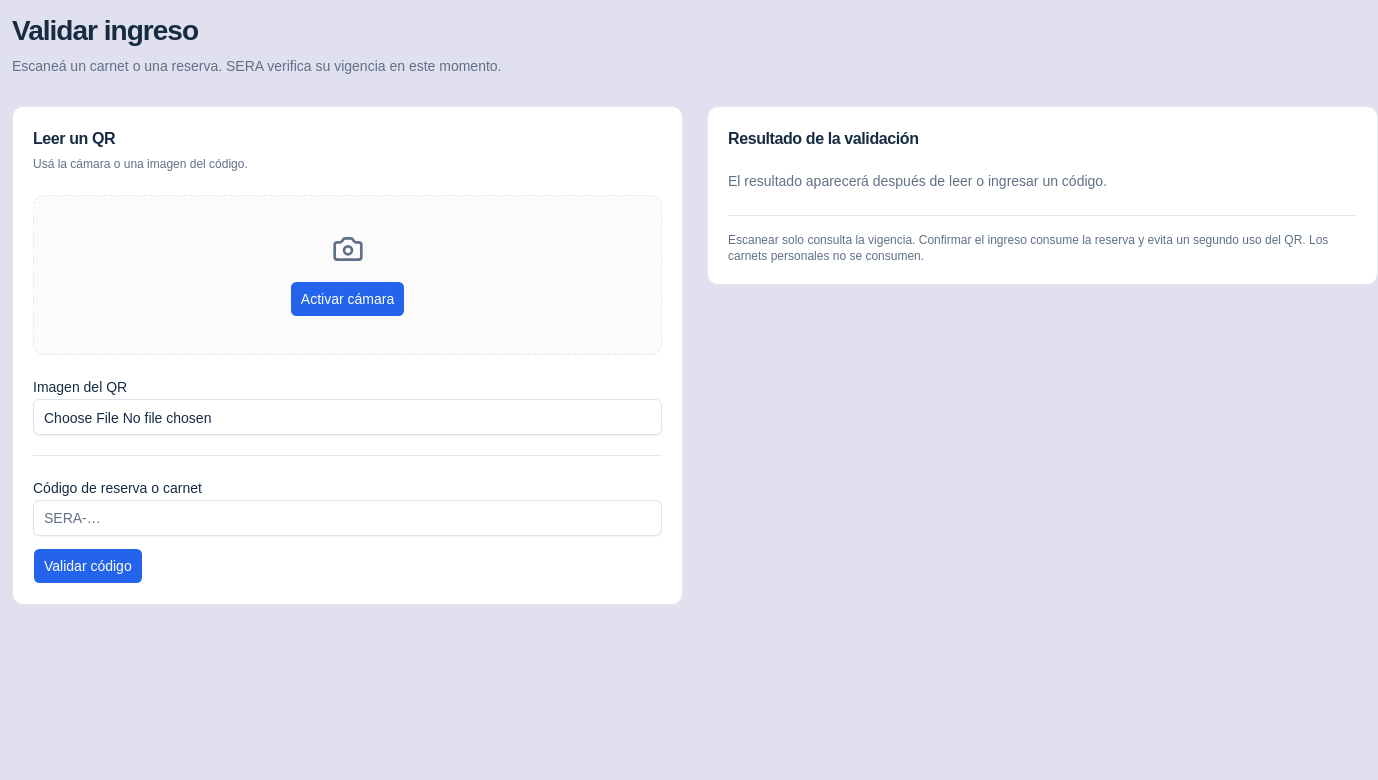
Test: Validación de acceso › usa la respuesta del servidor y borra el resultado al cambiar el código
Type "SERA-cancelada" into the field labelled "Código de reserva o carnet" at (348, 518), box 33,500 -> 662,536
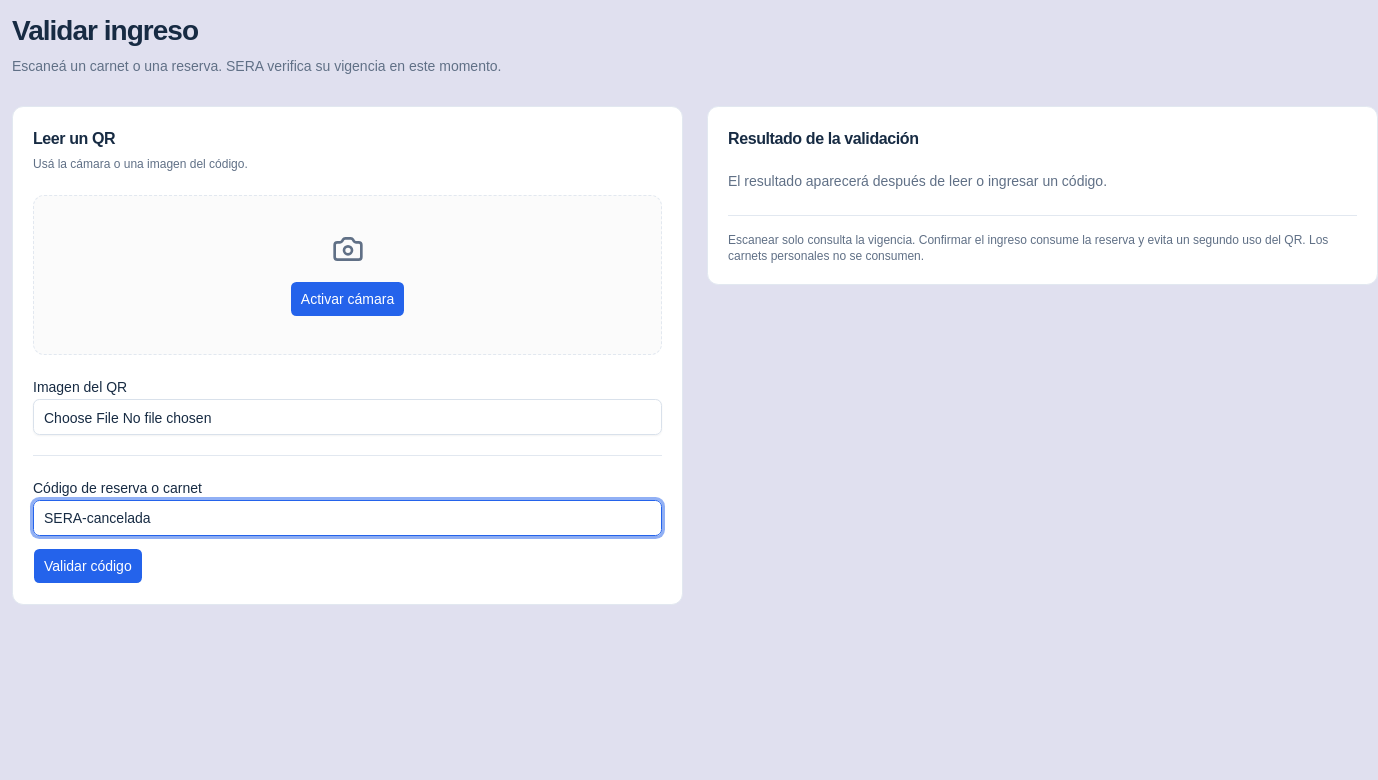
Click the button "Validar código" at (88, 566), box 33,548 -> 143,584
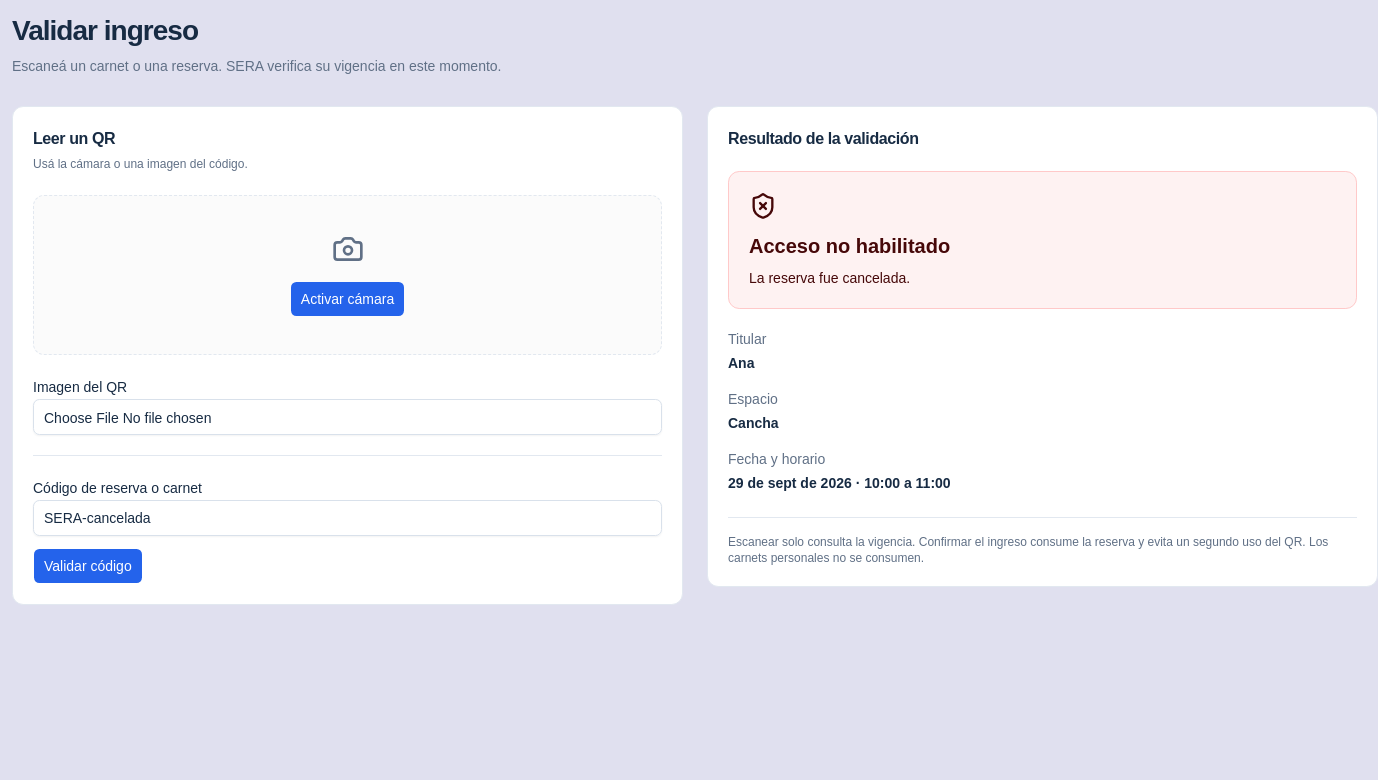
Now the heading "Acceso no habilitado" is shown, box 749,235 -> 950,257
Type "x" into the field labelled "Código de reserva o carnet" at (348, 518), box 33,500 -> 662,536
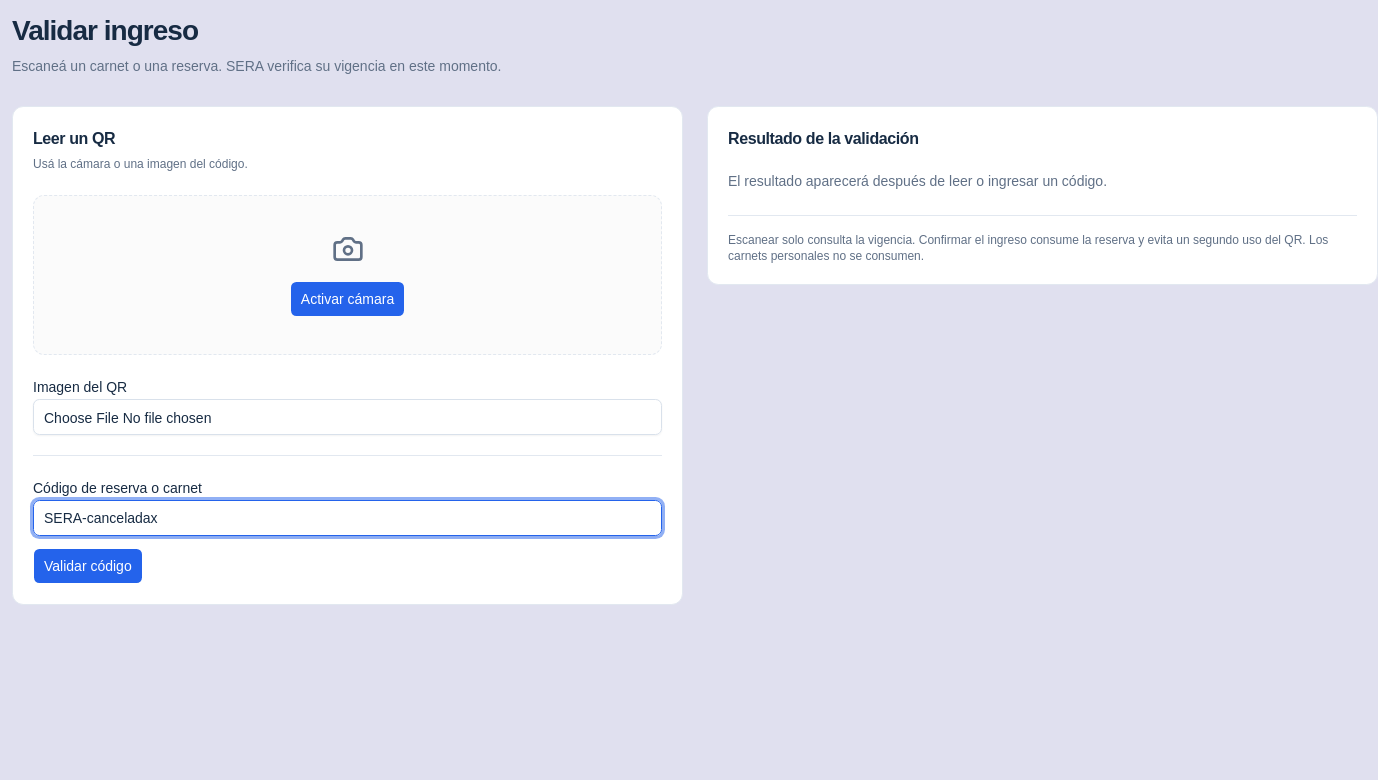
Now the heading "Acceso no habilitado" is gone
